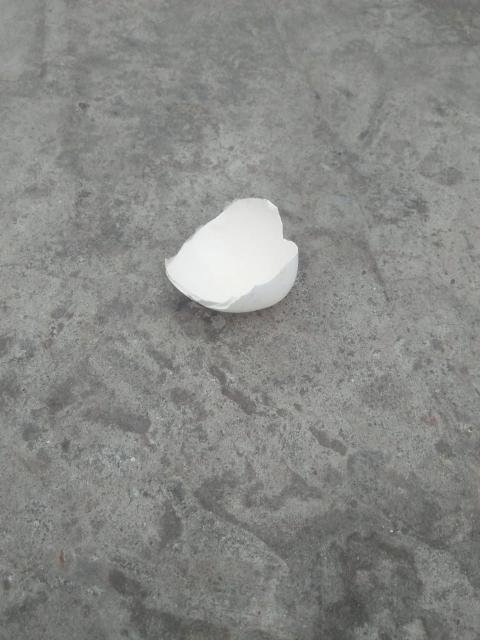Roto: (163, 195, 299, 314)
